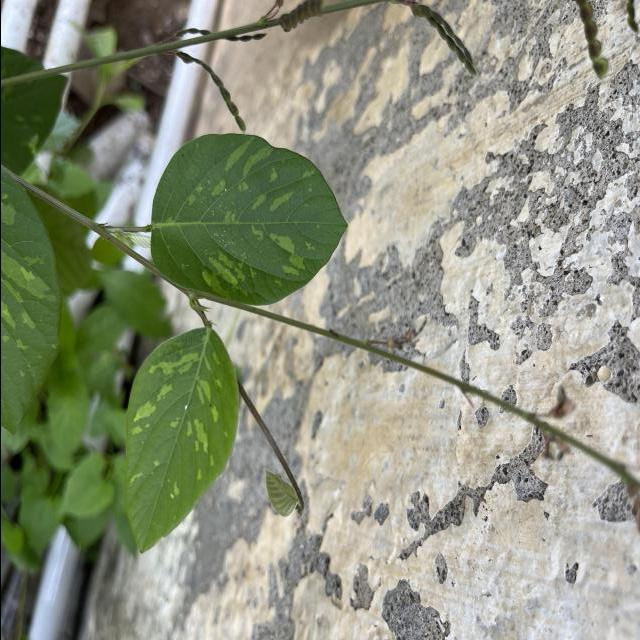Desmodium gangeticum: (146, 128, 349, 310), (121, 322, 242, 556)
